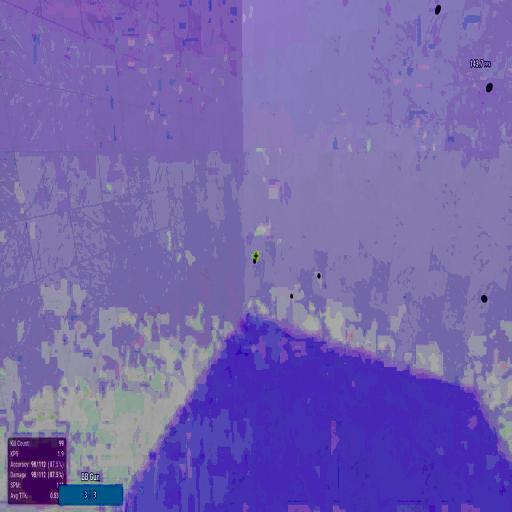Crosshair: (254, 252, 258, 260)
Target: (485, 80, 493, 93), (480, 294, 488, 303), (434, 3, 440, 14), (316, 272, 322, 280), (253, 258, 256, 264), (290, 294, 293, 298)
